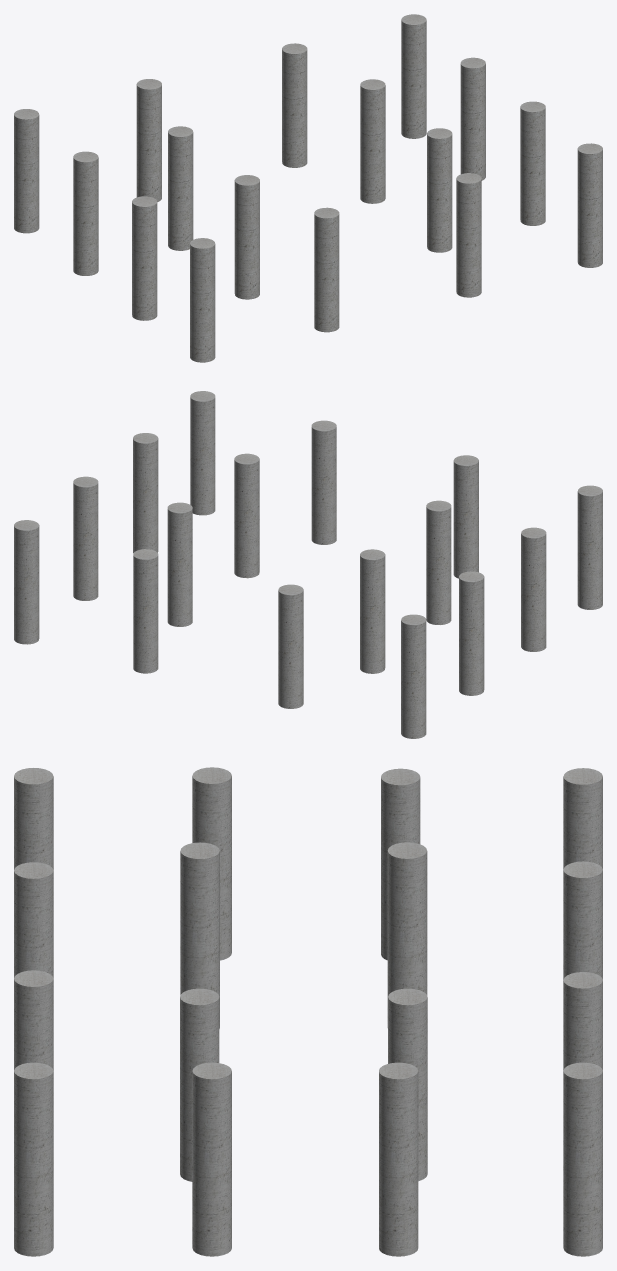
File: pilares.obj
3 renders of one model, top to bottom at view 1: azimuth 30°, elevation 25°; view 2: azimuth 150°, elevation 25°; view 3: azimuth 270°, elevation 25°, orthographic. The views are drawn at different scales.
Parts seen in each view (by area): view 1: pasted__pasted__pasted__polySurface60 pasted__pasted__pasted__po, polySurface61 polySurface27, polySurface27 polySurface41, polySurface27 polySurface60, pasted__pasted__polySurface60 pasted__pasted__polySurface27 past, polySurface27 polySurface58, polySurface27 polySurface72, polySurface27 polySurface64, polySurface27 polySurface70, polySurface27 polySurface46, polySurface27 polySurface45, polySurface27 polySurface68 (+3 smaller); view 2: pasted__pasted__pasted__polySurface60 pasted__pasted__pasted__po, polySurface27 polySurface71, polySurface27 polySurface46, polySurface61 polySurface27, polySurface27 polySurface58, polySurface27 polySurface68, polySurface27 polySurface41, pasted__polySurface60 pasted__polySurface27 group52, polySurface27 polySurface60, polySurface27 polySurface62, polySurface27 polySurface72, pasted__pasted__polySurface60 pasted__pasted__polySurface27 past (+3 smaller); view 3: pasted__pasted__pasted__polySurface60 pasted__pasted__pasted__po, polySurface27 polySurface62, polySurface61 polySurface27, polySurface27 polySurface70, polySurface27 polySurface45, pasted__polySurface60 pasted__polySurface27 group52, pasted__pasted__polySurface60 pasted__pasted__polySurface27 past, polySurface27 polySurface71, polySurface27 polySurface72, polySurface27 polySurface64, polySurface27 polySurface60, polySurface27 polySurface46 (+3 smaller).
Part boxes in pixels (x1,y1,x2,y2): pasted__pasted__pasted__polySurface60 pasted__pasted__pasted__po: (234,79,385,299); polySurface61 polySurface27: (401,14,426,138); polySurface27 polySurface41: (456,173,481,297); polySurface27 polySurface60: (190,238,215,362); pasted__pasted__polySurface60 pasted__pasted__polySurface27 past: (427,128,452,252); polySurface27 polySurface58: (282,43,307,167); polySurface27 polySurface72: (132,196,157,320); polySurface27 polySurface64: (314,207,339,332); polySurface27 polySurface70: (577,143,602,267); polySurface27 polySurface46: (14,109,39,233); polySurface27 polySurface45: (520,101,545,225); polySurface27 polySurface68: (73,151,98,275); pasted__pasted__pasted__polySurface60 pasted__pasted__pasted__po: (167,500,451,626); polySurface27 polySurface71: (278,584,303,708); polySurface27 polySurface46: (401,614,426,738); polySurface61 polySurface27: (14,520,39,644); polySurface27 polySurface58: (133,549,158,673); polySurface27 polySurface68: (459,571,484,695); polySurface27 polySurface41: (311,420,336,544); pasted__polySurface60 pasted__polySurface27 group52: (360,549,385,673); polySurface27 polySurface60: (577,485,602,609); polySurface27 polySurface62: (73,476,98,600); polySurface27 polySurface72: (521,527,546,651); pasted__pasted__polySurface60 pasted__pasted__polySurface27 past: (234,453,259,578); pasted__pasted__pasted__polySurface60 pasted__pasted__pasted__po: (180,842,427,1181); polySurface27 polySurface62: (379,1062,418,1256); polySurface61 polySurface27: (563,1062,602,1256); polySurface27 polySurface70: (14,1062,53,1256); polySurface27 polySurface45: (192,1062,231,1256); pasted__polySurface60 pasted__polySurface27 group52: (387,842,427,1027); pasted__pasted__polySurface60 pasted__pasted__polySurface27 past: (180,988,219,1181); polySurface27 polySurface71: (563,861,602,979); polySurface27 polySurface72: (192,767,231,960); polySurface27 polySurface64: (14,862,53,978); polySurface27 polySurface60: (14,768,53,870); polySurface27 polySurface46: (563,768,602,869).
Bounding box in the file's own units: 80.16 × 21.26 × 63.97.
